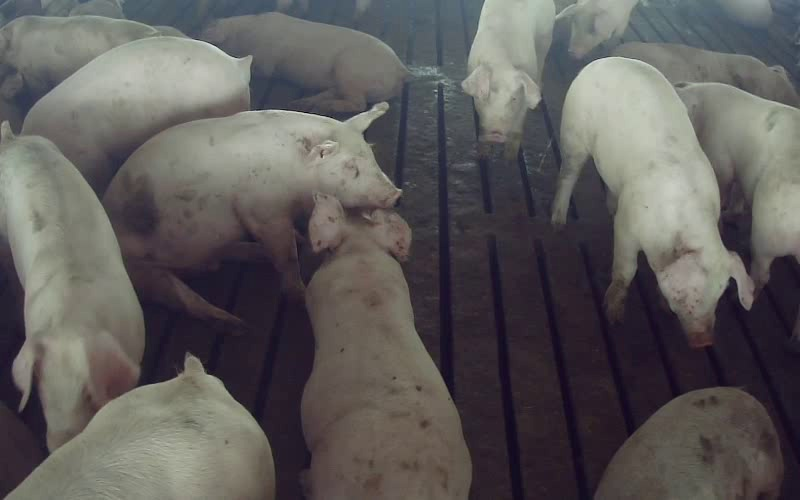pig: (552, 59, 753, 344), (5, 355, 274, 499), (22, 37, 251, 196), (676, 83, 799, 288), (201, 12, 409, 114), (595, 387, 782, 499), (0, 16, 184, 98), (611, 42, 799, 106)
